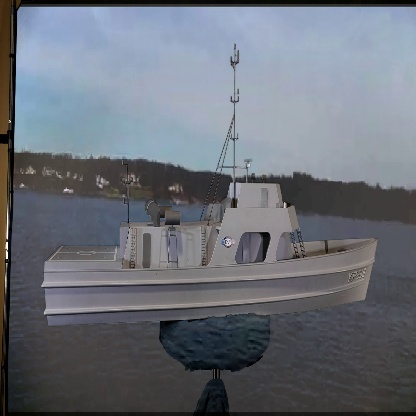YP689: (39, 35, 378, 330)
